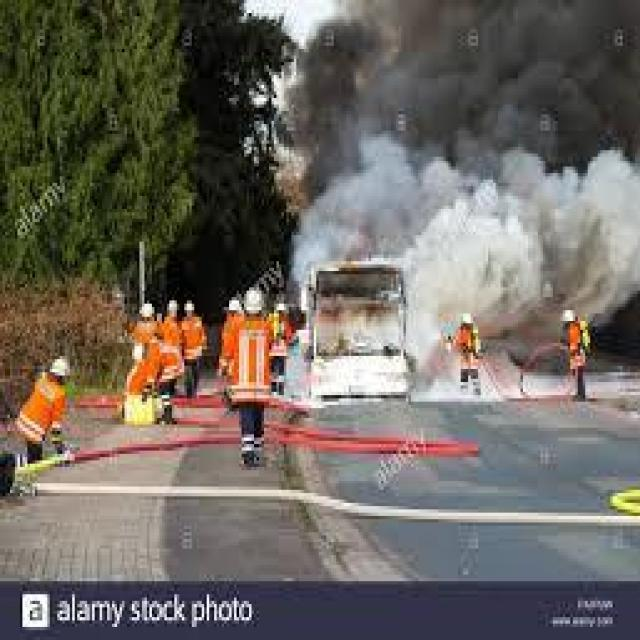smoke: (269, 3, 629, 319)
